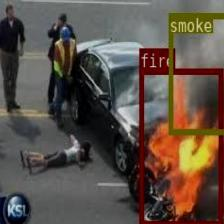fire: (138, 67, 222, 224)
smoke: (167, 13, 224, 133)
